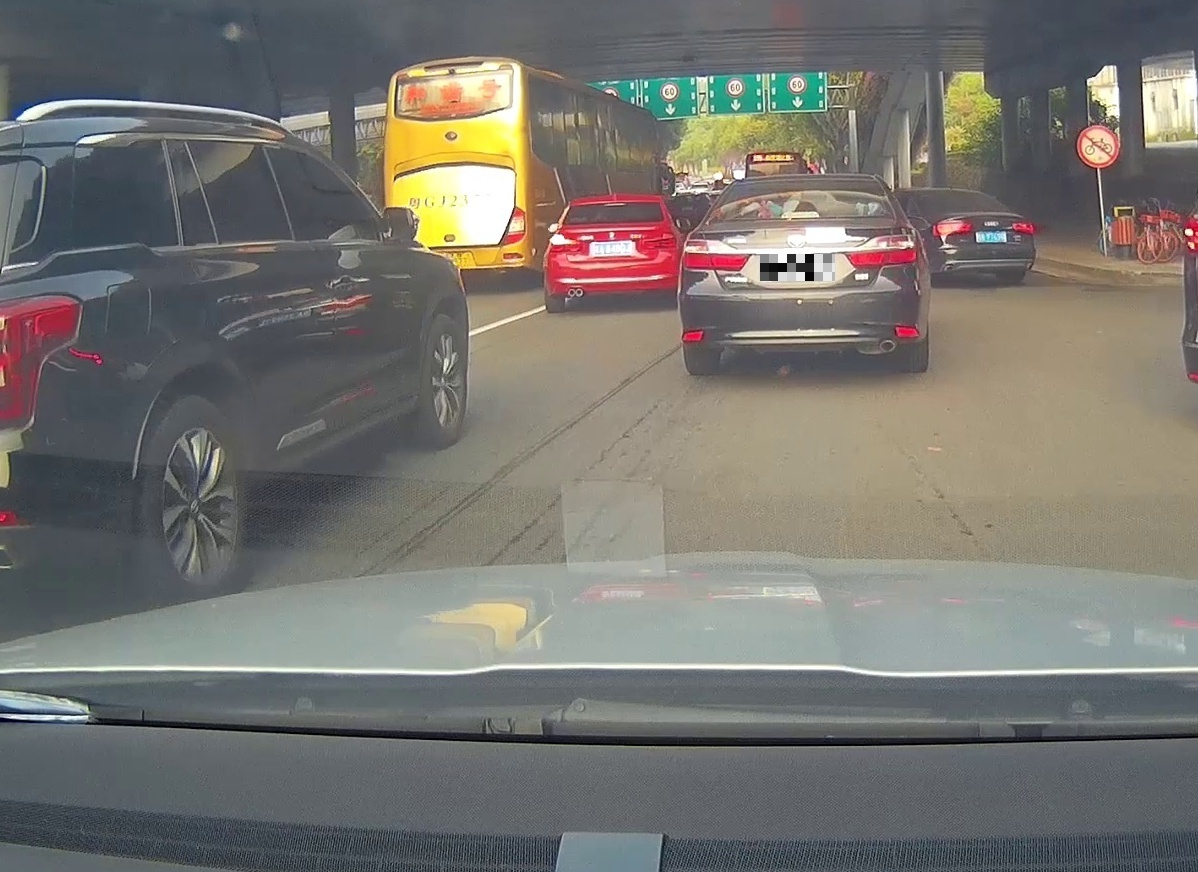L_light: (683, 239, 751, 272)
R_light: (844, 234, 916, 268)
T_light: (797, 180, 824, 184)
day-no: (679, 174, 931, 374)
plate_1: (760, 254, 835, 281)
